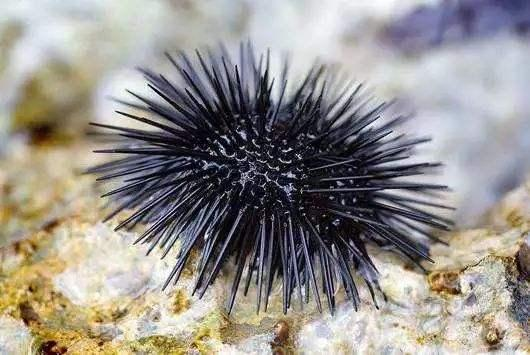urchin: (87, 37, 455, 316)
